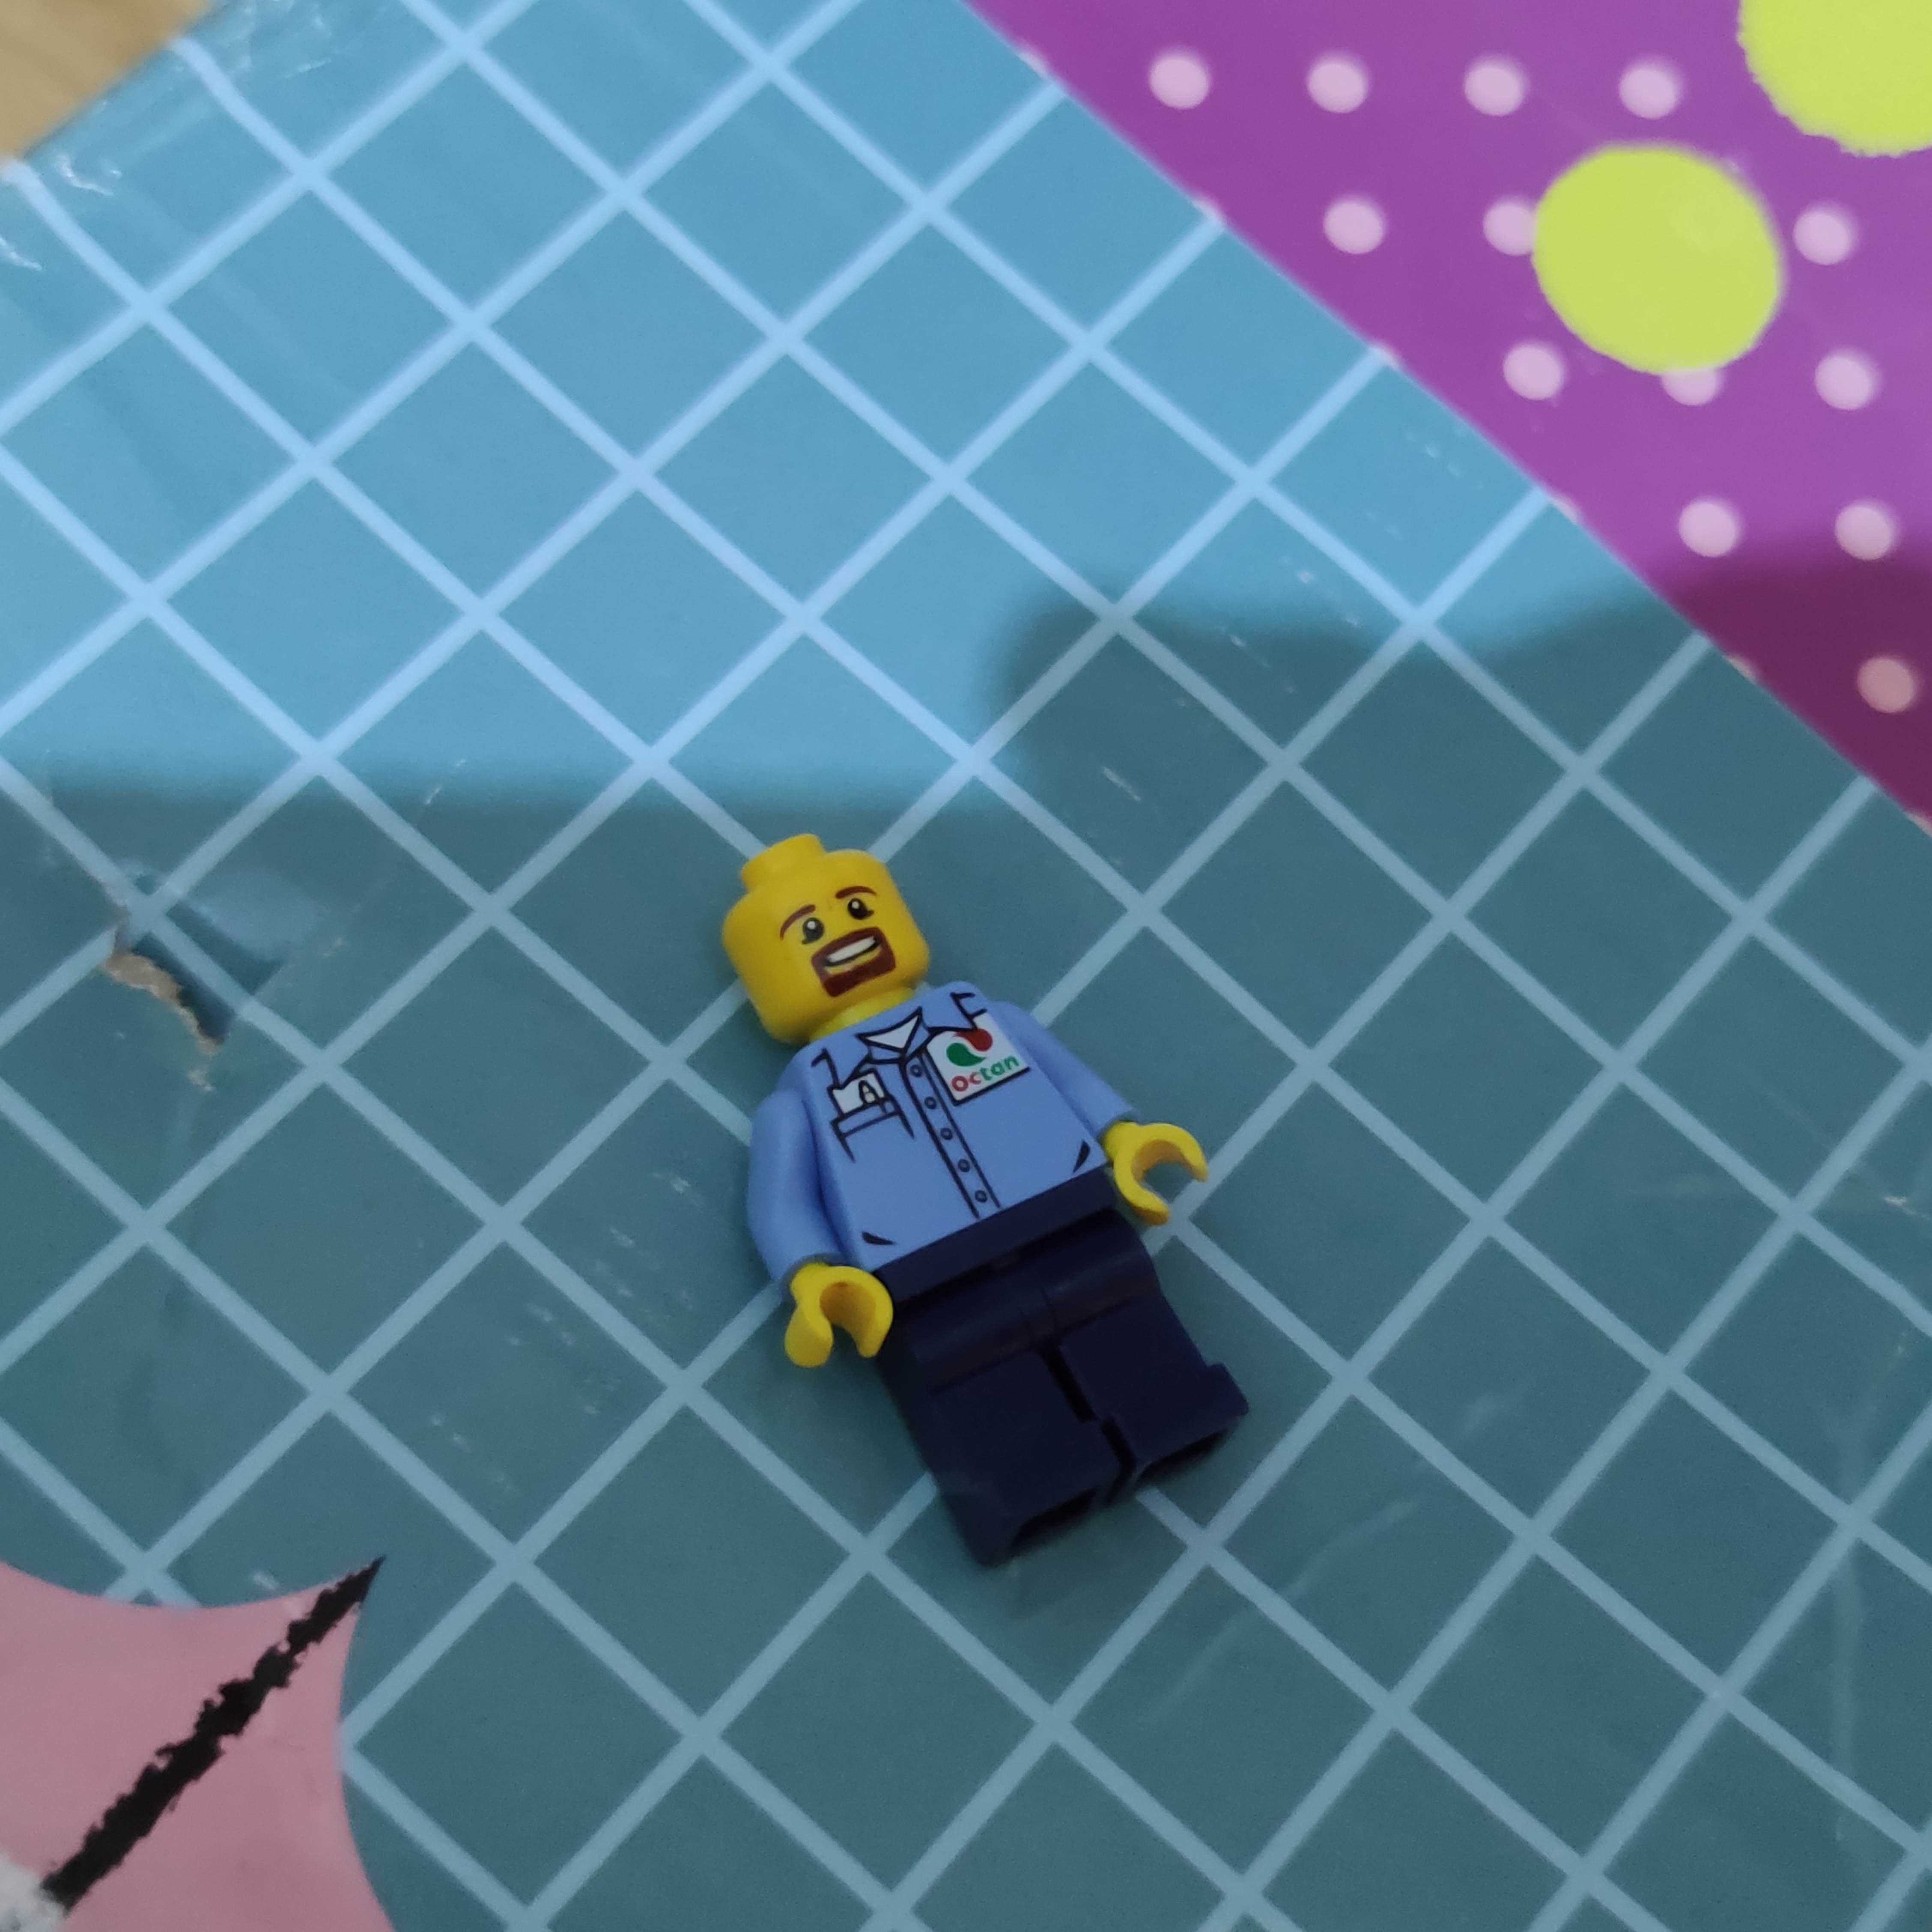lego: (702, 832, 1249, 1596)
